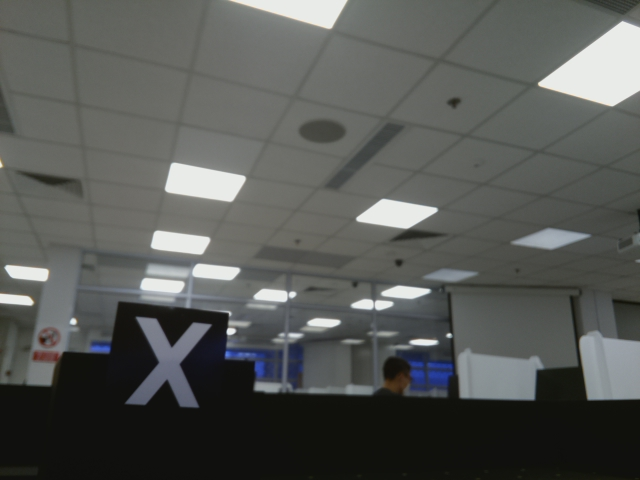x: (122, 310, 216, 419)
